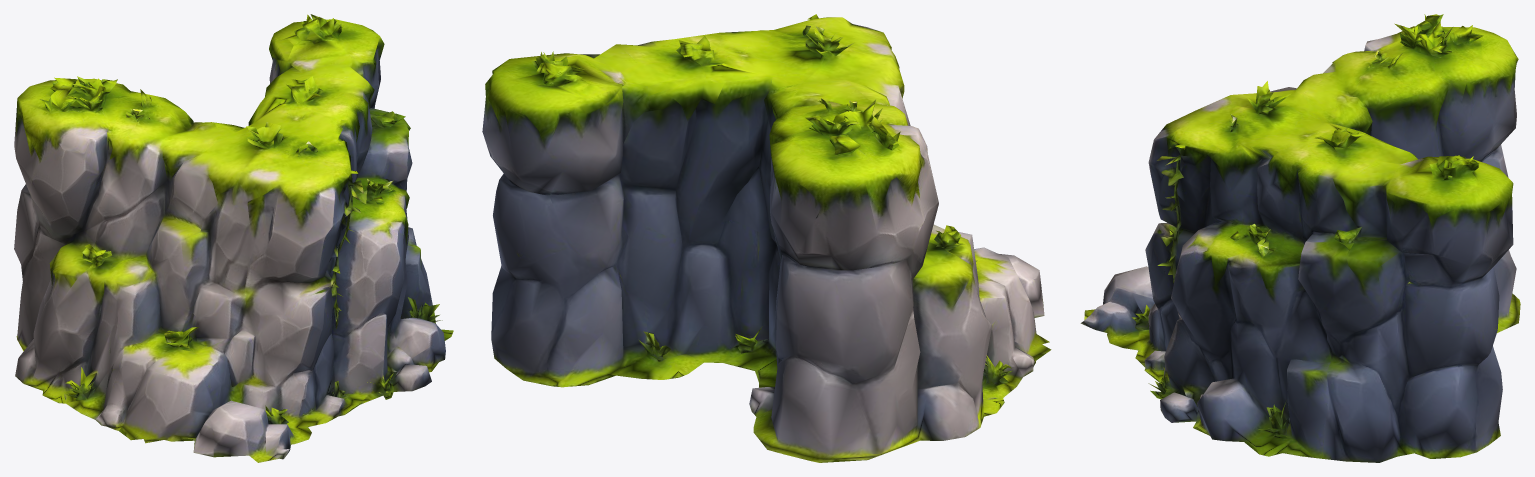
The picture shows the model from 3 angles, left to right: view 1: azimuth 30°, elevation 25°; view 2: azimuth 150°, elevation 25°; view 3: azimuth 270°, elevation 25°; orthographic projection. The views are drawn at different scales.
Visible parts, largest first — view 1: prop; view 2: prop; view 3: prop.
Part boxes in pixels (bbox=[...]): prop: bbox=[14, 14, 453, 462]; prop: bbox=[482, 14, 1051, 462]; prop: bbox=[1080, 14, 1520, 462].
Size of the model in its own units: 1.52 by 0.9943 by 1.4.
1 material, 1 textured.
